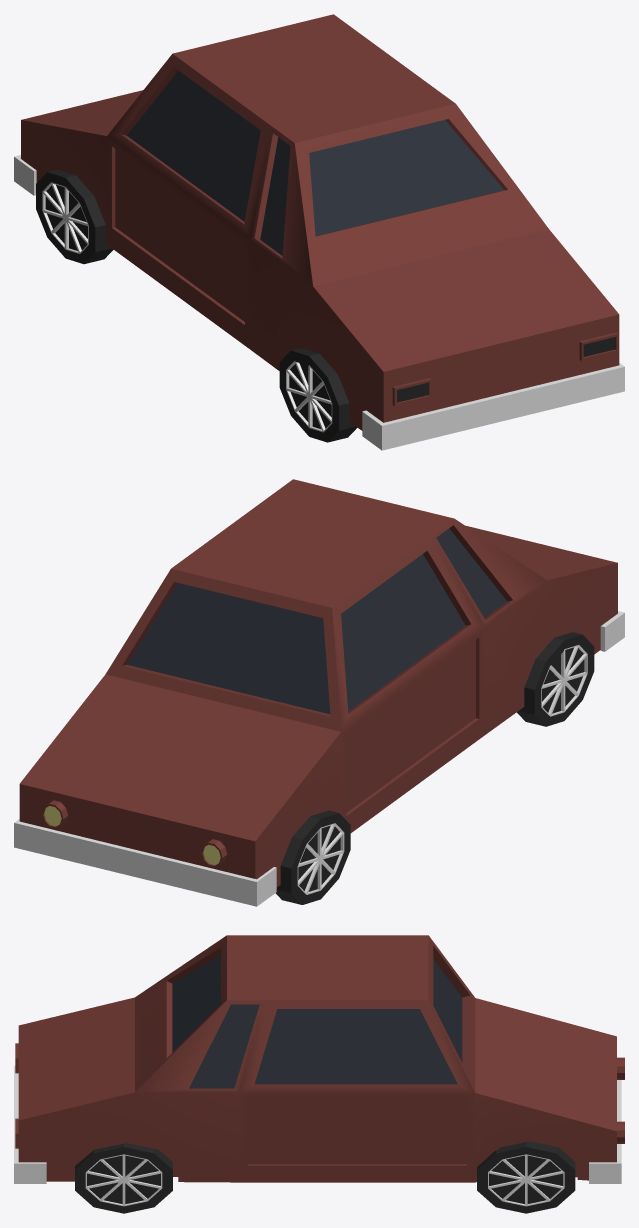
The model's file is Car_Red.fbx.
The picture shows the model from 3 angles, top to bottom: view 1: azimuth 30°, elevation 25°; view 2: azimuth 150°, elevation 25°; view 3: azimuth 270°, elevation 25°; orthographic projection. The views are drawn at different scales.
Parts seen in each view (by area): view 1: polySurface32, pCylinder9, polySurface30, pCube28, polySurface31; view 2: polySurface32, pCylinder9, polySurface31, polySurface30, pCylinder11; view 3: polySurface32, pCylinder9, polySurface30, polySurface31.
Part boxes in pixels (box(x1,y1,x2,y2)): polySurface32: box(21, 14, 619, 430); pCylinder9: box(36, 169, 357, 442); polySurface30: box(362, 363, 624, 450); pCube28: box(392, 332, 618, 406); polySurface31: box(14, 155, 36, 195); polySurface32: box(19, 479, 617, 887); pCylinder9: box(275, 632, 594, 904); polySurface31: box(14, 819, 276, 906); polySurface30: box(600, 611, 624, 651); pCylinder11: box(200, 839, 227, 867); polySurface32: box(18, 935, 616, 1182); pCylinder9: box(75, 1141, 575, 1213); polySurface30: box(14, 1065, 46, 1183); polySurface31: box(589, 1080, 621, 1183).
Size of the model in its own units: 1280 by 1138 by 3227.
